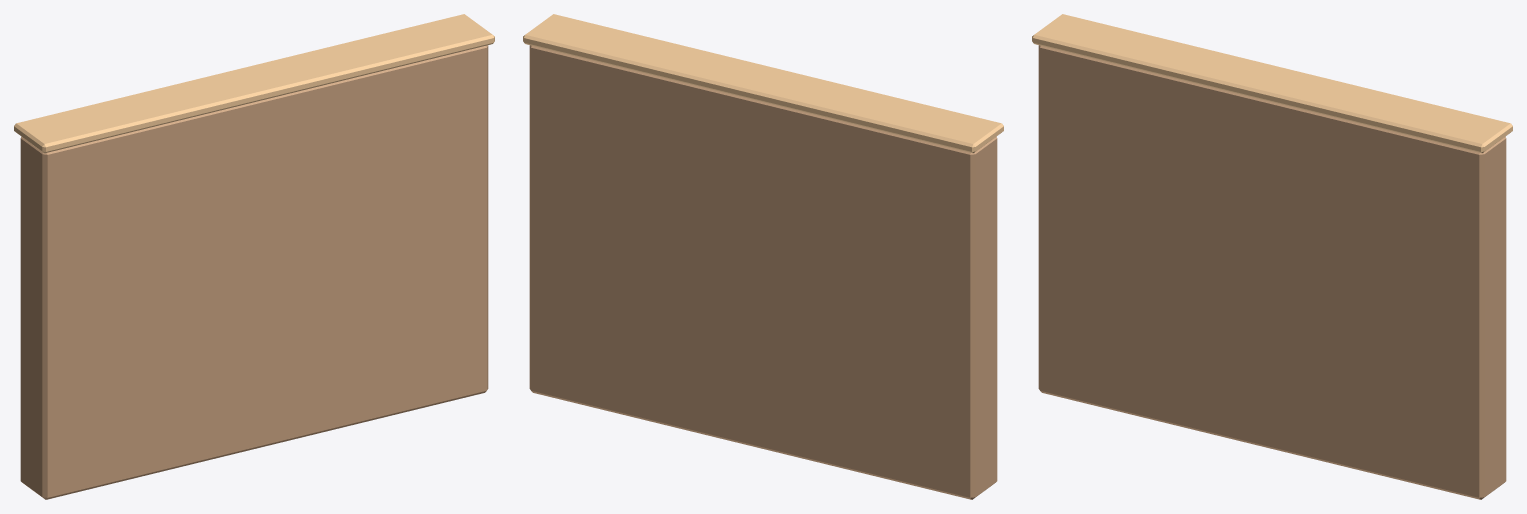
Rendered from retaining_wall3.glb.
3 renders of one model, left to right at view 1: azimuth 30°, elevation 25°; view 2: azimuth 150°, elevation 25°; view 3: azimuth 330°, elevation 25°, orthographic.
Parts seen in each view (by area): view 1: retaining_wall, retaining_wall_cap; view 2: retaining_wall, retaining_wall_cap; view 3: retaining_wall, retaining_wall_cap.
Part boxes in pixels (left/top/right/bottom): retaining_wall: left=20, top=45, right=488, bottom=499; retaining_wall_cap: left=14, top=14, right=494, bottom=153; retaining_wall: left=529, top=45, right=997, bottom=499; retaining_wall_cap: left=523, top=14, right=1003, bottom=153; retaining_wall: left=1038, top=45, right=1506, bottom=499; retaining_wall_cap: left=1032, top=14, right=1512, bottom=153.
Size of the model in its own units: 4.06 by 3.08 by 0.48.
